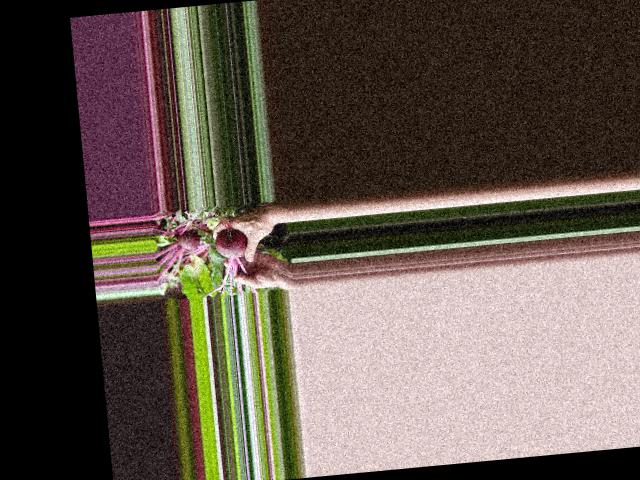beet: (196, 226, 253, 297)
